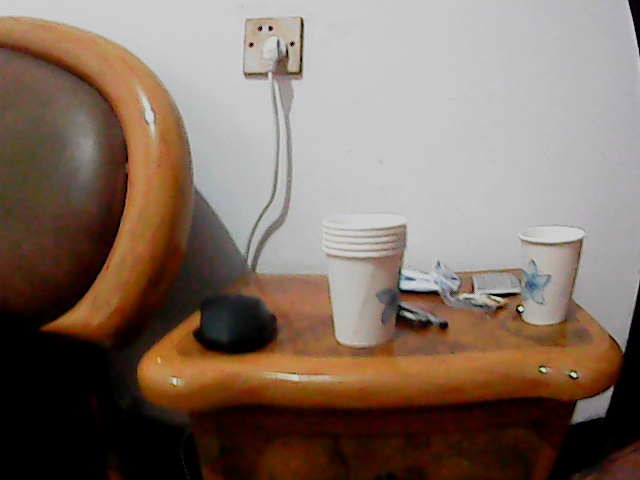cup: (315, 215, 413, 350)
mouse: (185, 292, 282, 353)
